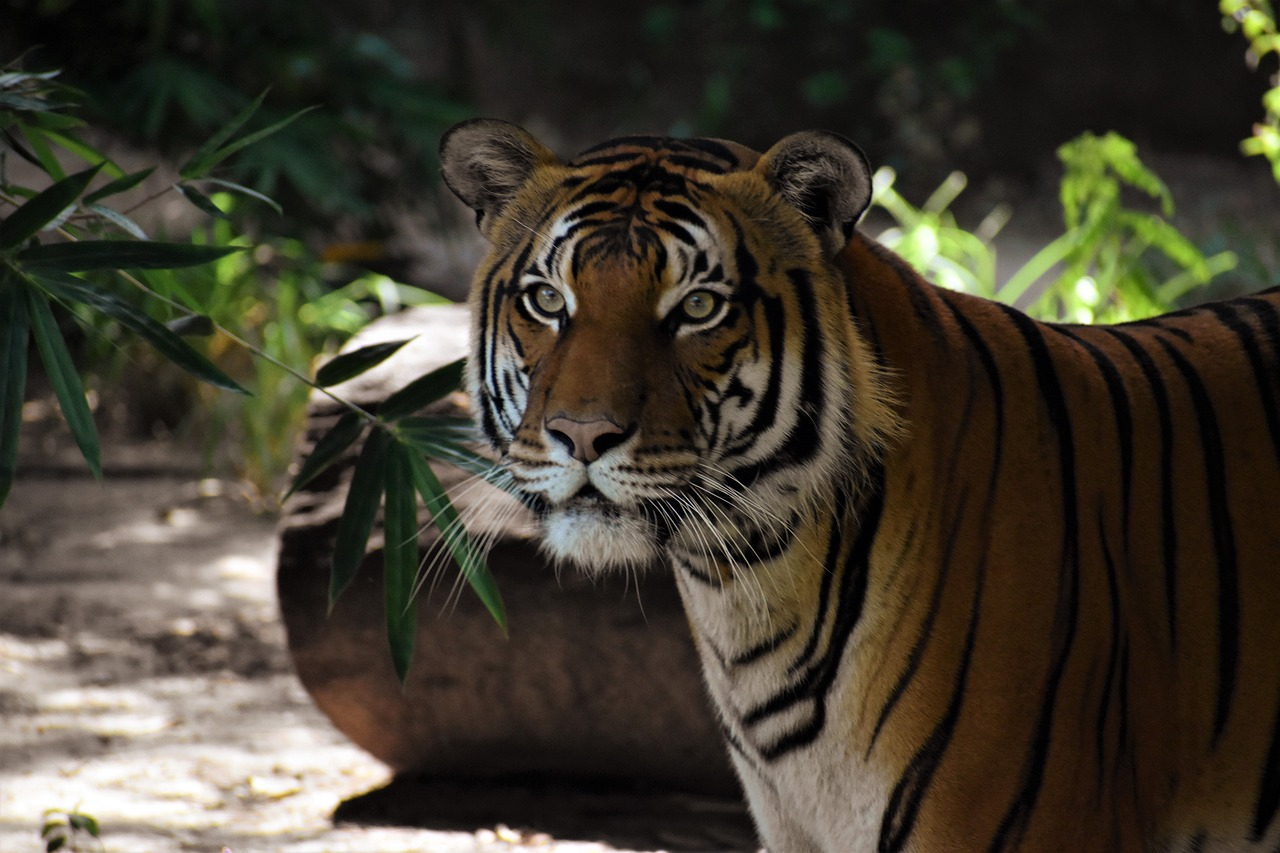tiger: (417, 93, 891, 595)
